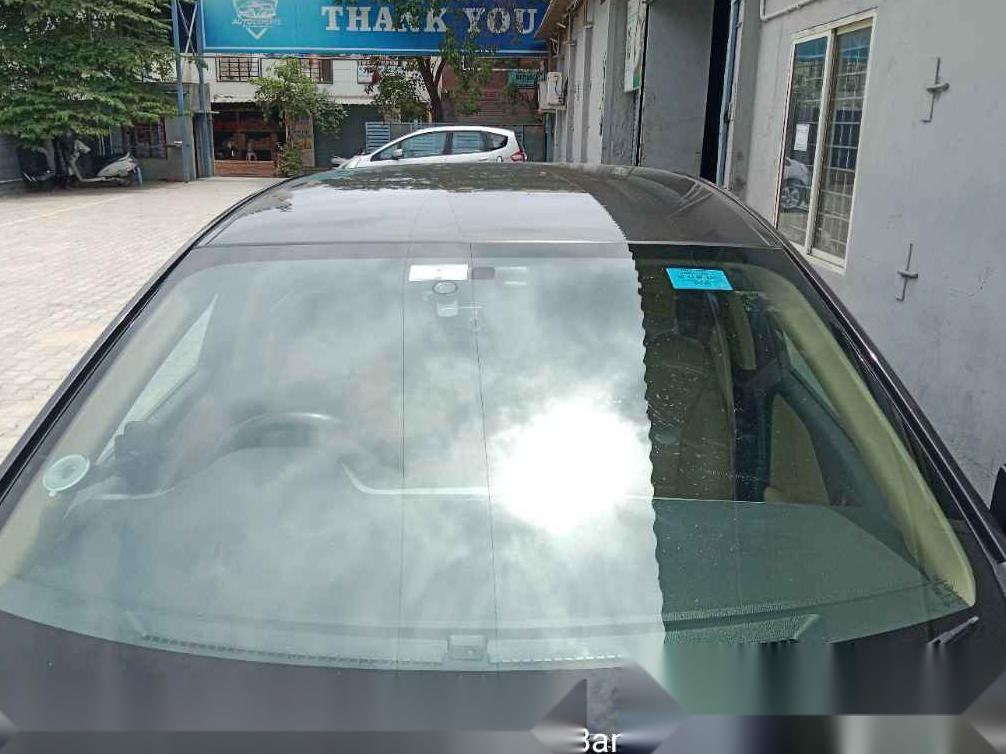FastTag: (402, 253, 470, 298)
not a FastTag: (662, 262, 748, 301)
